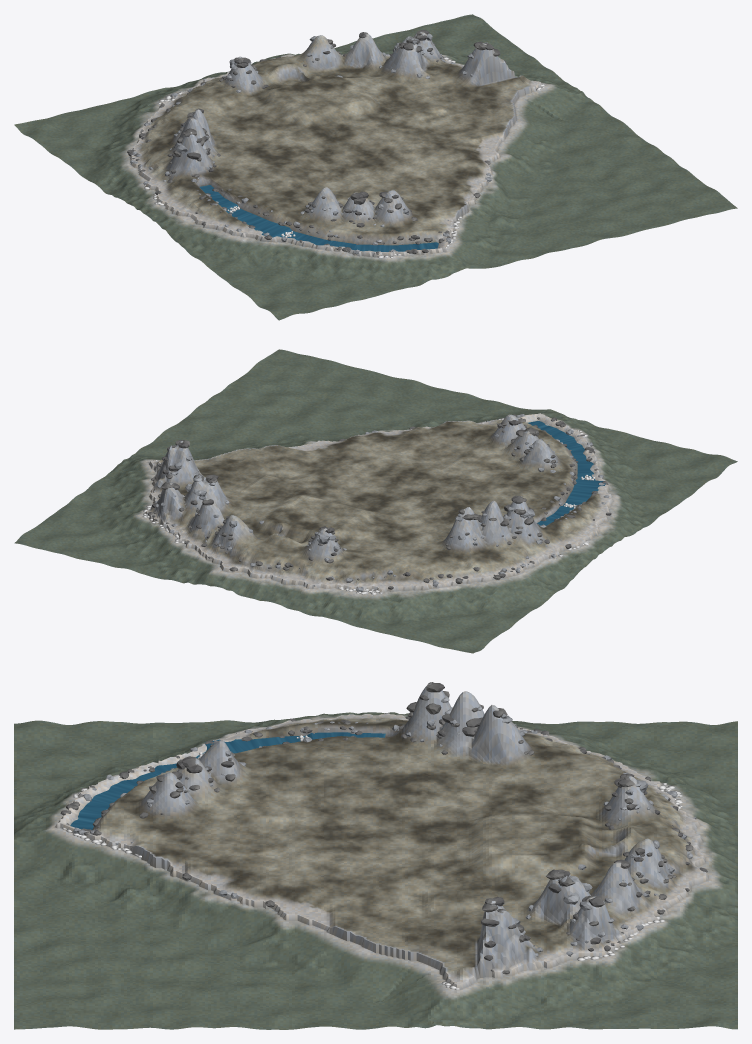
Rendered from Terrain_P1.fbx.
3 renders of one model, top to bottom at view 1: azimuth 30°, elevation 25°; view 2: azimuth 150°, elevation 25°; view 3: azimuth 270°, elevation 25°, orthographic. The views are drawn at different scales.
Visible parts, largest first — view 1: Ground, River; view 2: Ground, River; view 3: Ground, River, Surf.
Boxes of the visible parts, <box> form: Ground: <box>14,14,737,320</box>; River: <box>199,185,438,251</box>; Ground: <box>14,349,737,653</box>; River: <box>528,421,605,525</box>; Ground: <box>14,683,737,1029</box>; River: <box>70,732,385,829</box>; Surf: <box>62,713,682,989</box>.
Size of what is drawn, in the model's own units: 64000 by 8397 by 64000.
